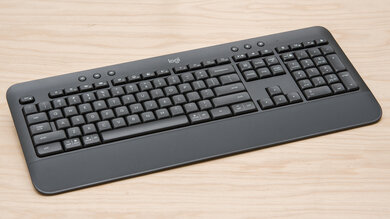keyboard: (9, 27, 383, 173)
